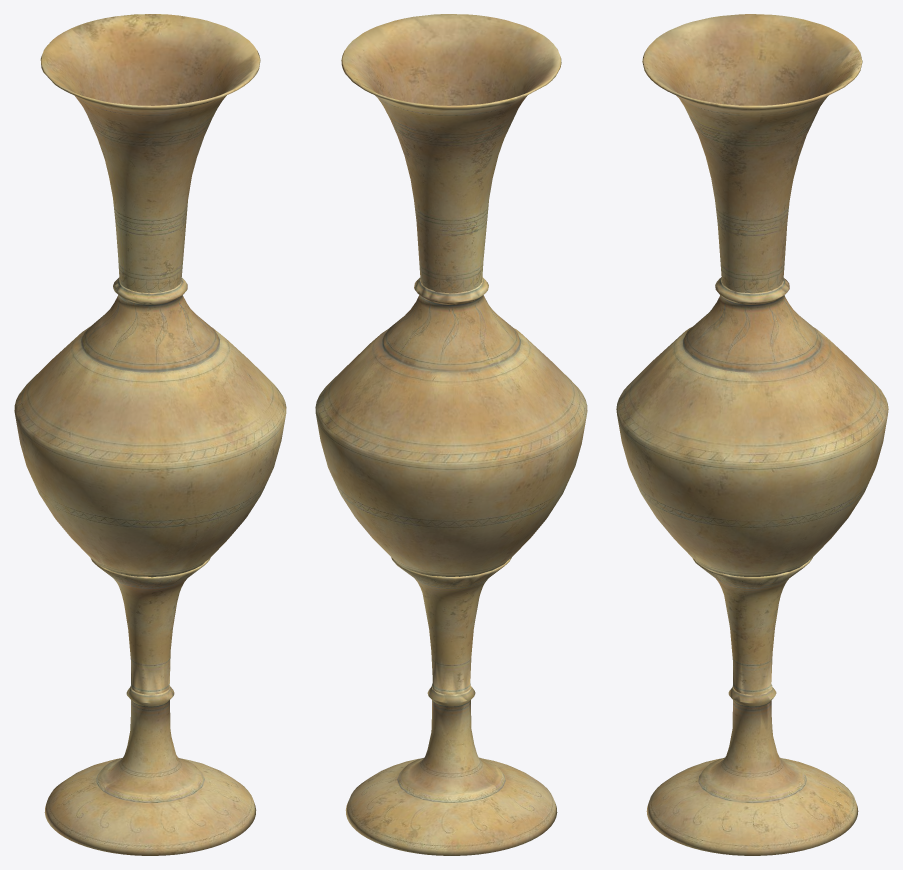
The model's file is brass_vase_01.glb.
The picture shows the model from 3 angles, left to right: view 1: azimuth 30°, elevation 25°; view 2: azimuth 150°, elevation 25°; view 3: azimuth 270°, elevation 25°; orthographic projection.
Parts seen in each view (by area): view 1: brass_vase_01; view 2: brass_vase_01; view 3: brass_vase_01.
Boxes of the visible parts, x1,y1,x2,y2 form: brass_vase_01: (14, 14, 286, 855); brass_vase_01: (315, 14, 587, 855); brass_vase_01: (616, 14, 888, 855).
Bounding box in the file's own units: 0.2272 × 0.6925 × 0.2272.
Materials: 1 (1 with a texture image).
